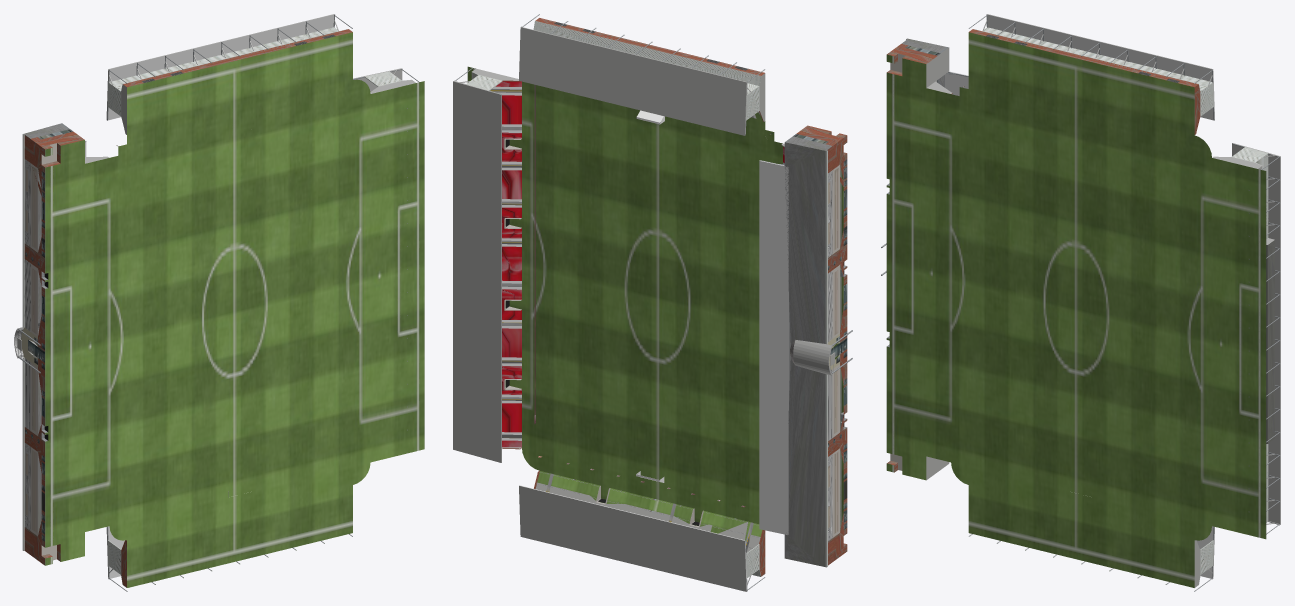
Rendered from NA_LSVStadium_Base.fbx.
3 renders of one model, left to right at view 1: azimuth 30°, elevation 25°; view 2: azimuth 150°, elevation 25°; view 3: azimuth 330°, elevation 25°, orthographic.
Parts seen in each view (by area): view 1: NA_LSVStadium_Base; view 2: NA_LSVStadium_Base; view 3: NA_LSVStadium_Base.
Part boxes in pixels (x1=…): NA_LSVStadium_Base: x1=14, y1=14, x2=424, y2=591; NA_LSVStadium_Base: x1=453, y1=14, x2=852, y2=591; NA_LSVStadium_Base: x1=881, y1=14, x2=1280, y2=591.
Bounding box in the file's own units: 11948 × 15082 × 1332.
Materials: 1 (1 with a texture image).
